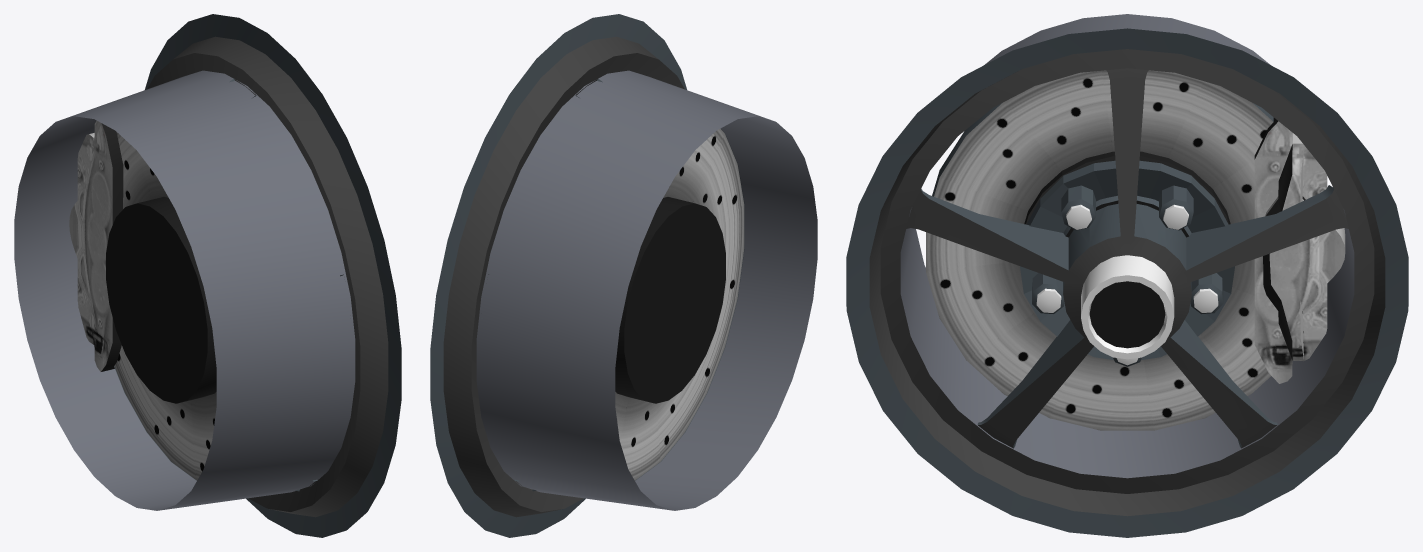
3 renders of one model, left to right at view 1: azimuth 30°, elevation 25°; view 2: azimuth 150°, elevation 25°; view 3: azimuth 270°, elevation 25°, orthographic. The views are drawn at different scales.
Parts seen in each view (by area): view 1: 020, BrakeDisc, Caliper; view 2: 020, BrakeDisc; view 3: 020, BrakeDisc, Caliper.
Boxes of the visible parts, x1,y1,x2,y2 form: 020: (14,14,401,537); BrakeDisc: (106,132,216,480); Caliper: (69,121,123,371); 020: (430,14,817,537); BrakeDisc: (615,128,744,480); 020: (846,14,1408,537); BrakeDisc: (926,70,1273,430); Caliper: (1254,117,1345,383).
Bounding box in the file's own units: 0.2502 × 0.5331 × 0.5331.
